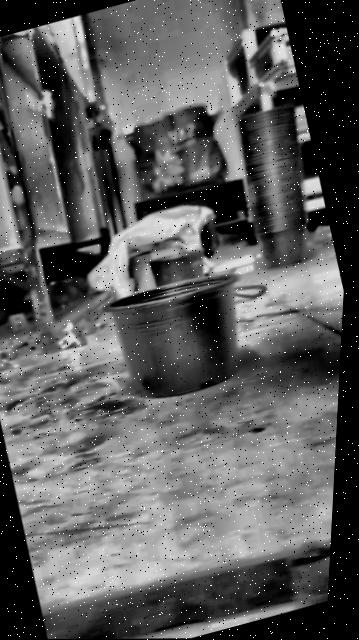pot: (97, 265, 262, 410)
